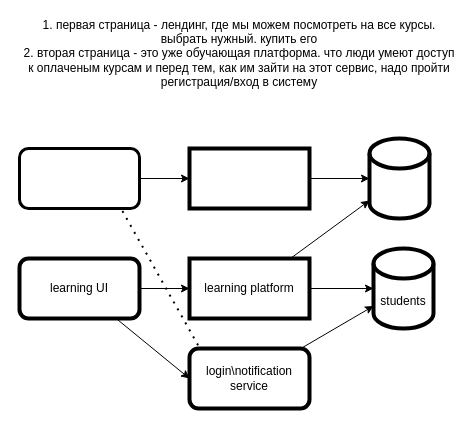
Some shapes in this 476 by 427 pixel diagram are drawn without their labels. The centre of each missing label's shape, as x and y in pixels:
"courses" belongs at [399,178].
"platform serivce" belongs at [249,178].
